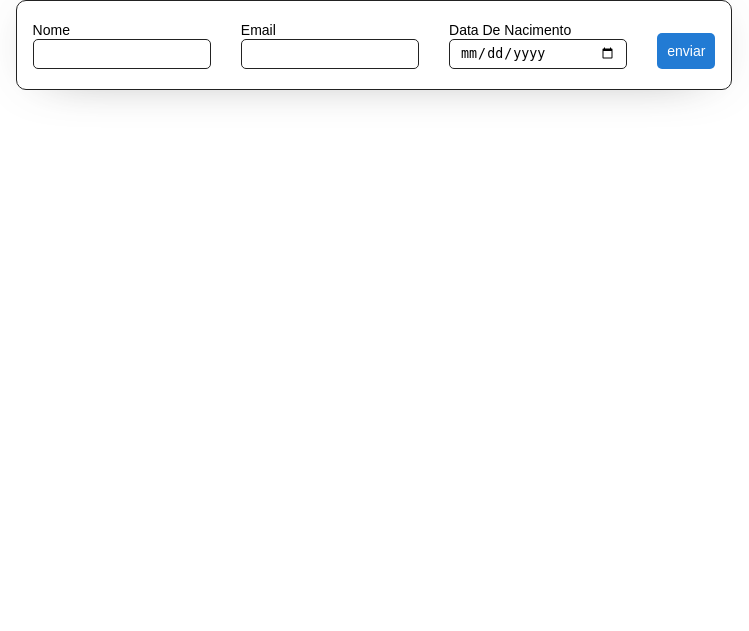
<Form /> › should return an error for not adding a name
Click the button: point(686, 51) [657,33,715,69]
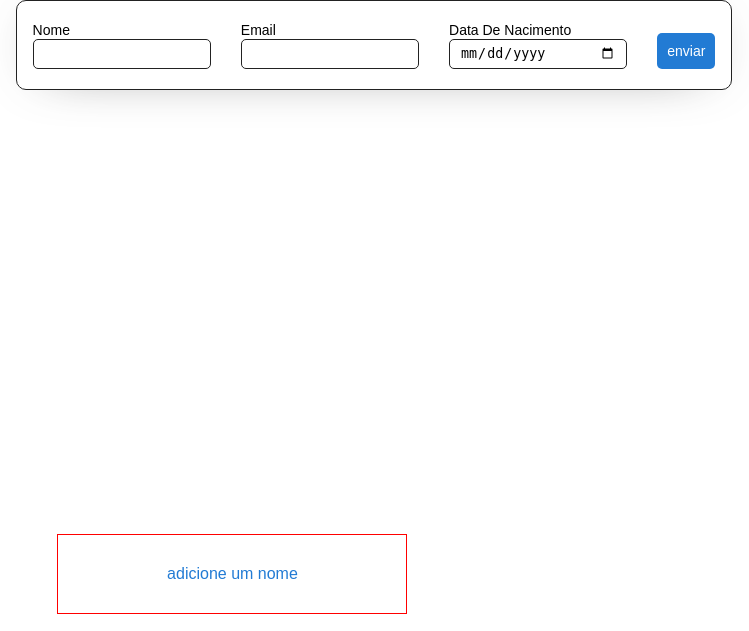
Check: the message reads "adicione um nome", box [167,565,298,582]
